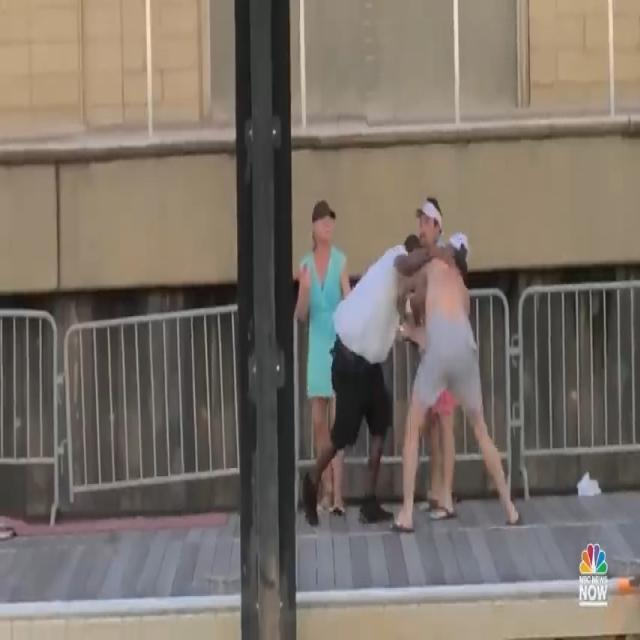fight: (300, 179, 531, 536)
